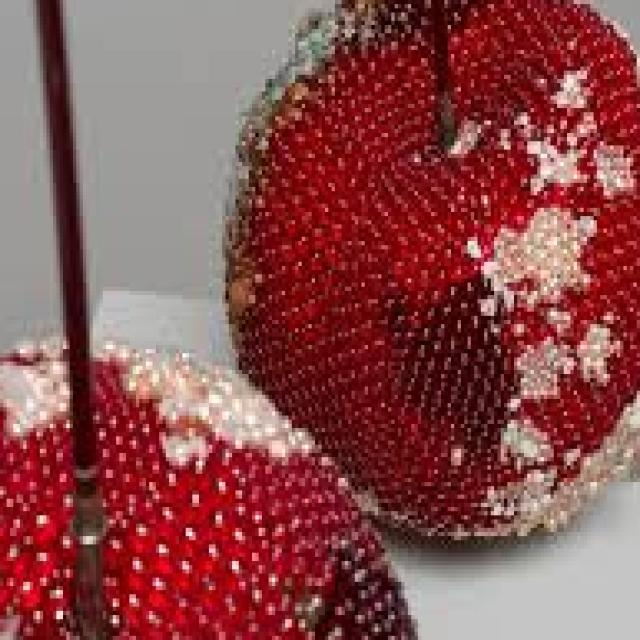inorganic: (217, 0, 636, 558), (14, 341, 414, 614)
